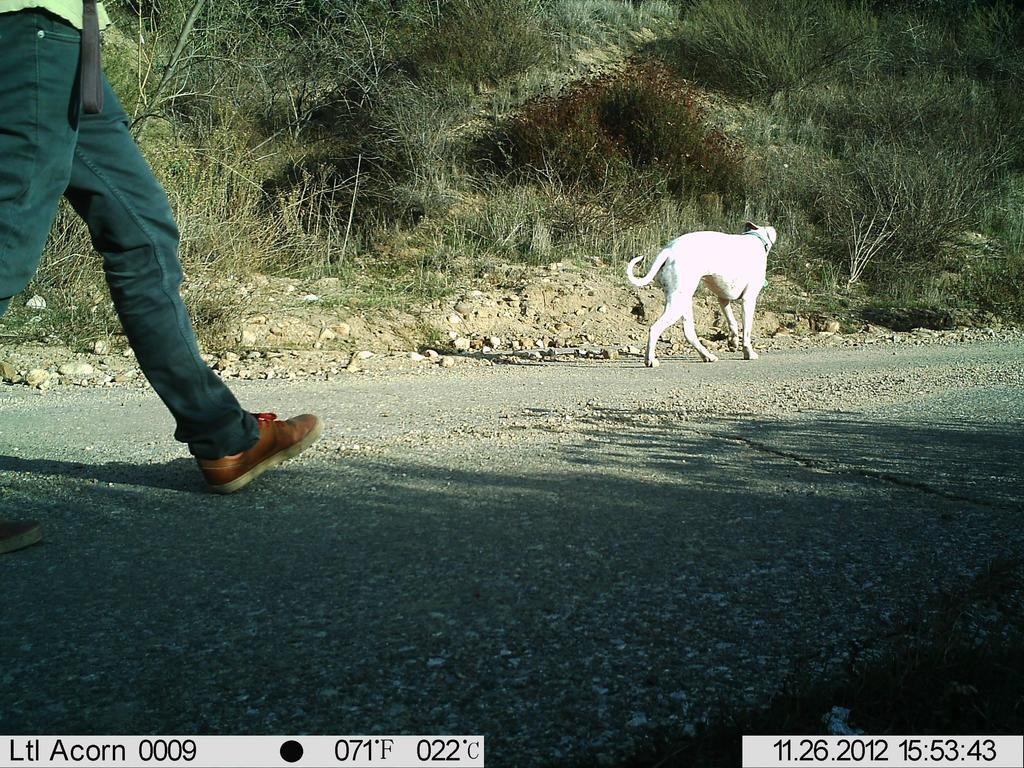dog: (616, 205, 798, 378)
